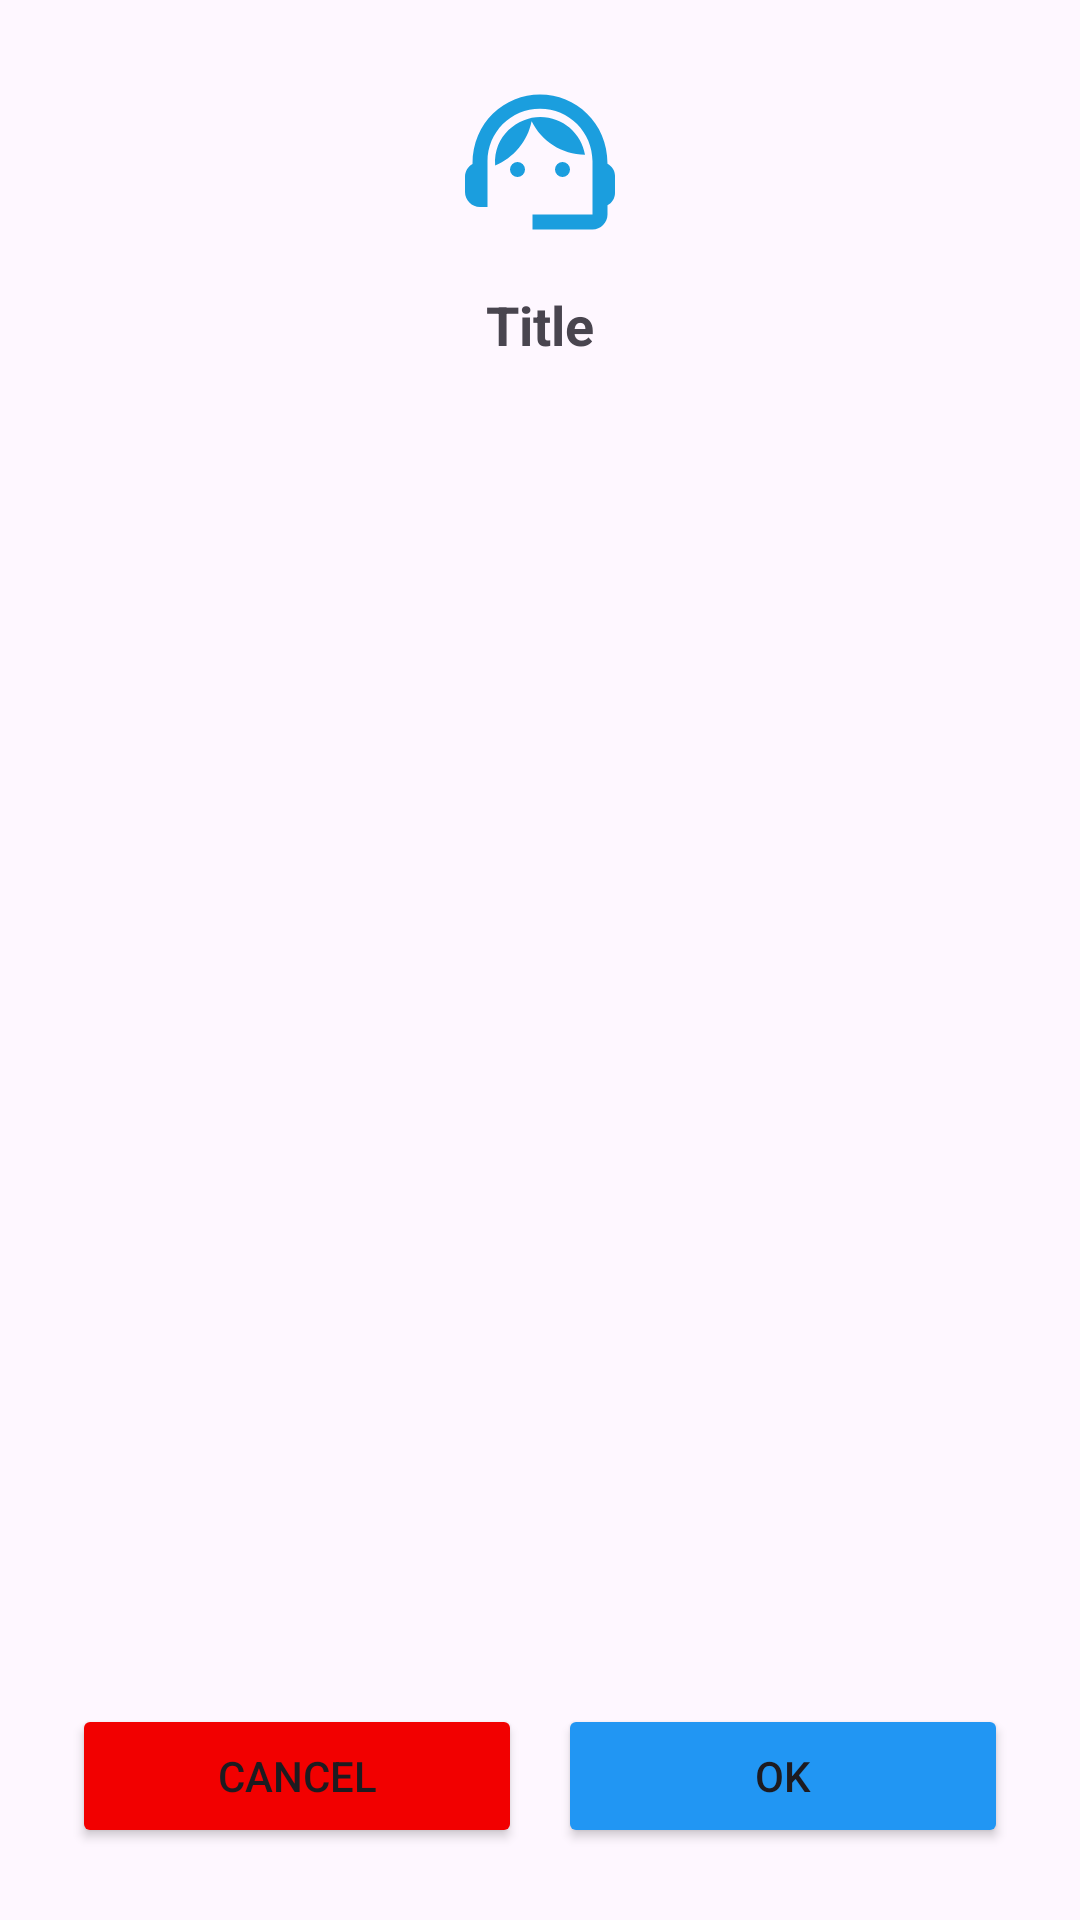

Icons on this 1080 × 1920 Android screen, each with the point to tap as point (x, y):
support agent: point (540, 162)
